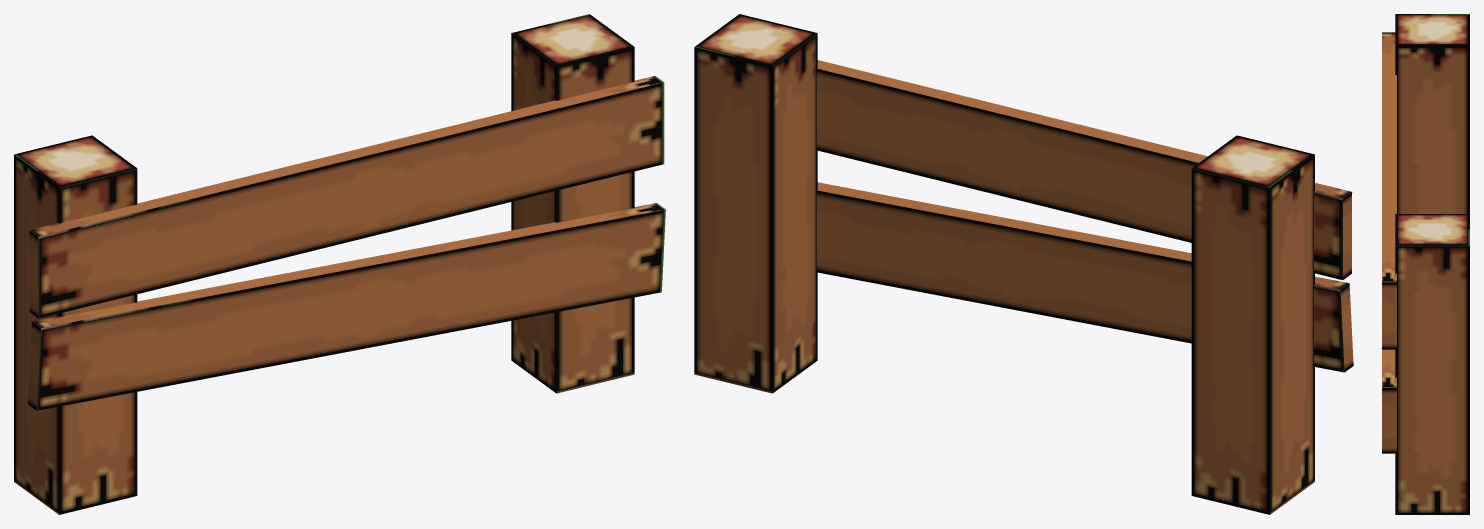
Rendered from deco_fenceLarge.FBX.
3 views of the same model, side by side, from view 1: azimuth 30°, elevation 25°; view 2: azimuth 150°, elevation 25°; view 3: azimuth 270°, elevation 25° (orthographic). The views are drawn at different scales.
Visible parts, largest first — view 1: deco_fenceLarge; view 2: deco_fenceLarge; view 3: deco_fenceLarge.
Boxes of the visible parts, box(x1,y1,x2,y2) form: deco_fenceLarge: box(14, 14, 665, 514); deco_fenceLarge: box(694, 14, 1353, 514); deco_fenceLarge: box(1382, 14, 1469, 514).
Size of the model in its own units: 4.02 by 2 by 0.5898.
Materials: 1 (1 with a texture image).
